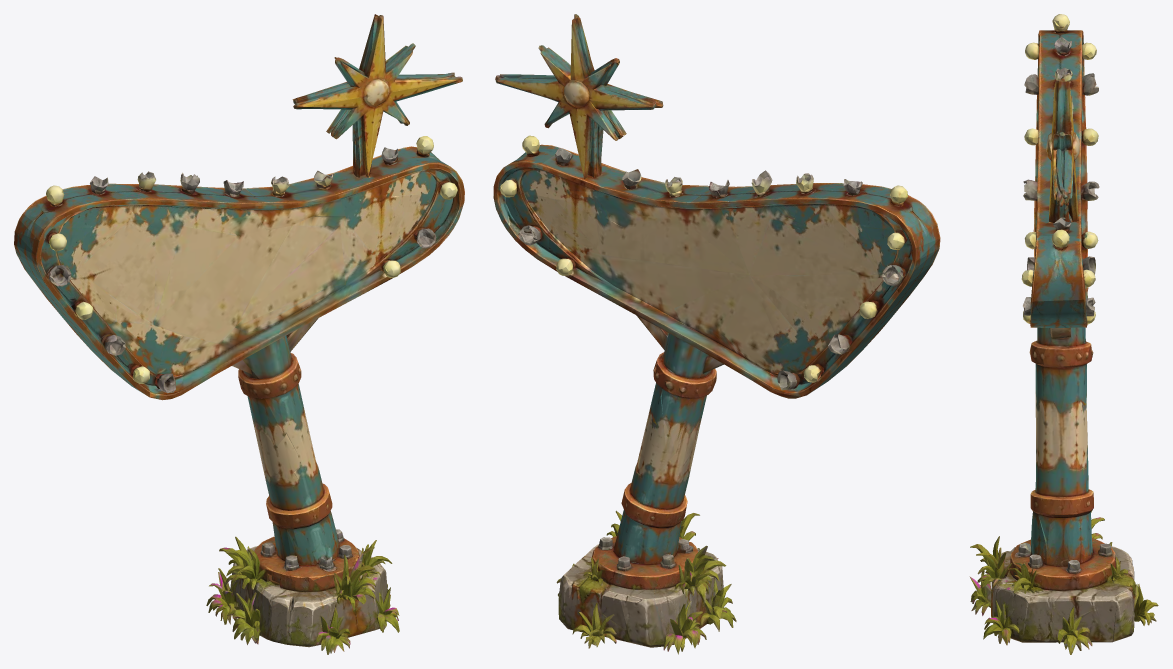
The model's file is landmark_sign.glb.
3 views of the same model, side by side, from view 1: azimuth 30°, elevation 25°; view 2: azimuth 150°, elevation 25°; view 3: azimuth 270°, elevation 25° (orthographic). The views are drawn at different scales.
Parts seen in each view (by area): view 1: output_unwrapped; view 2: output_unwrapped; view 3: output_unwrapped.
Boxes of the visible parts, bbox=[...] form: output_unwrapped: bbox=[14, 14, 464, 654]; output_unwrapped: bbox=[493, 14, 940, 654]; output_unwrapped: bbox=[969, 14, 1158, 654].
Size of the model in its own units: 1.49 by 1.91 by 0.5723.
1 material, 1 textured.
